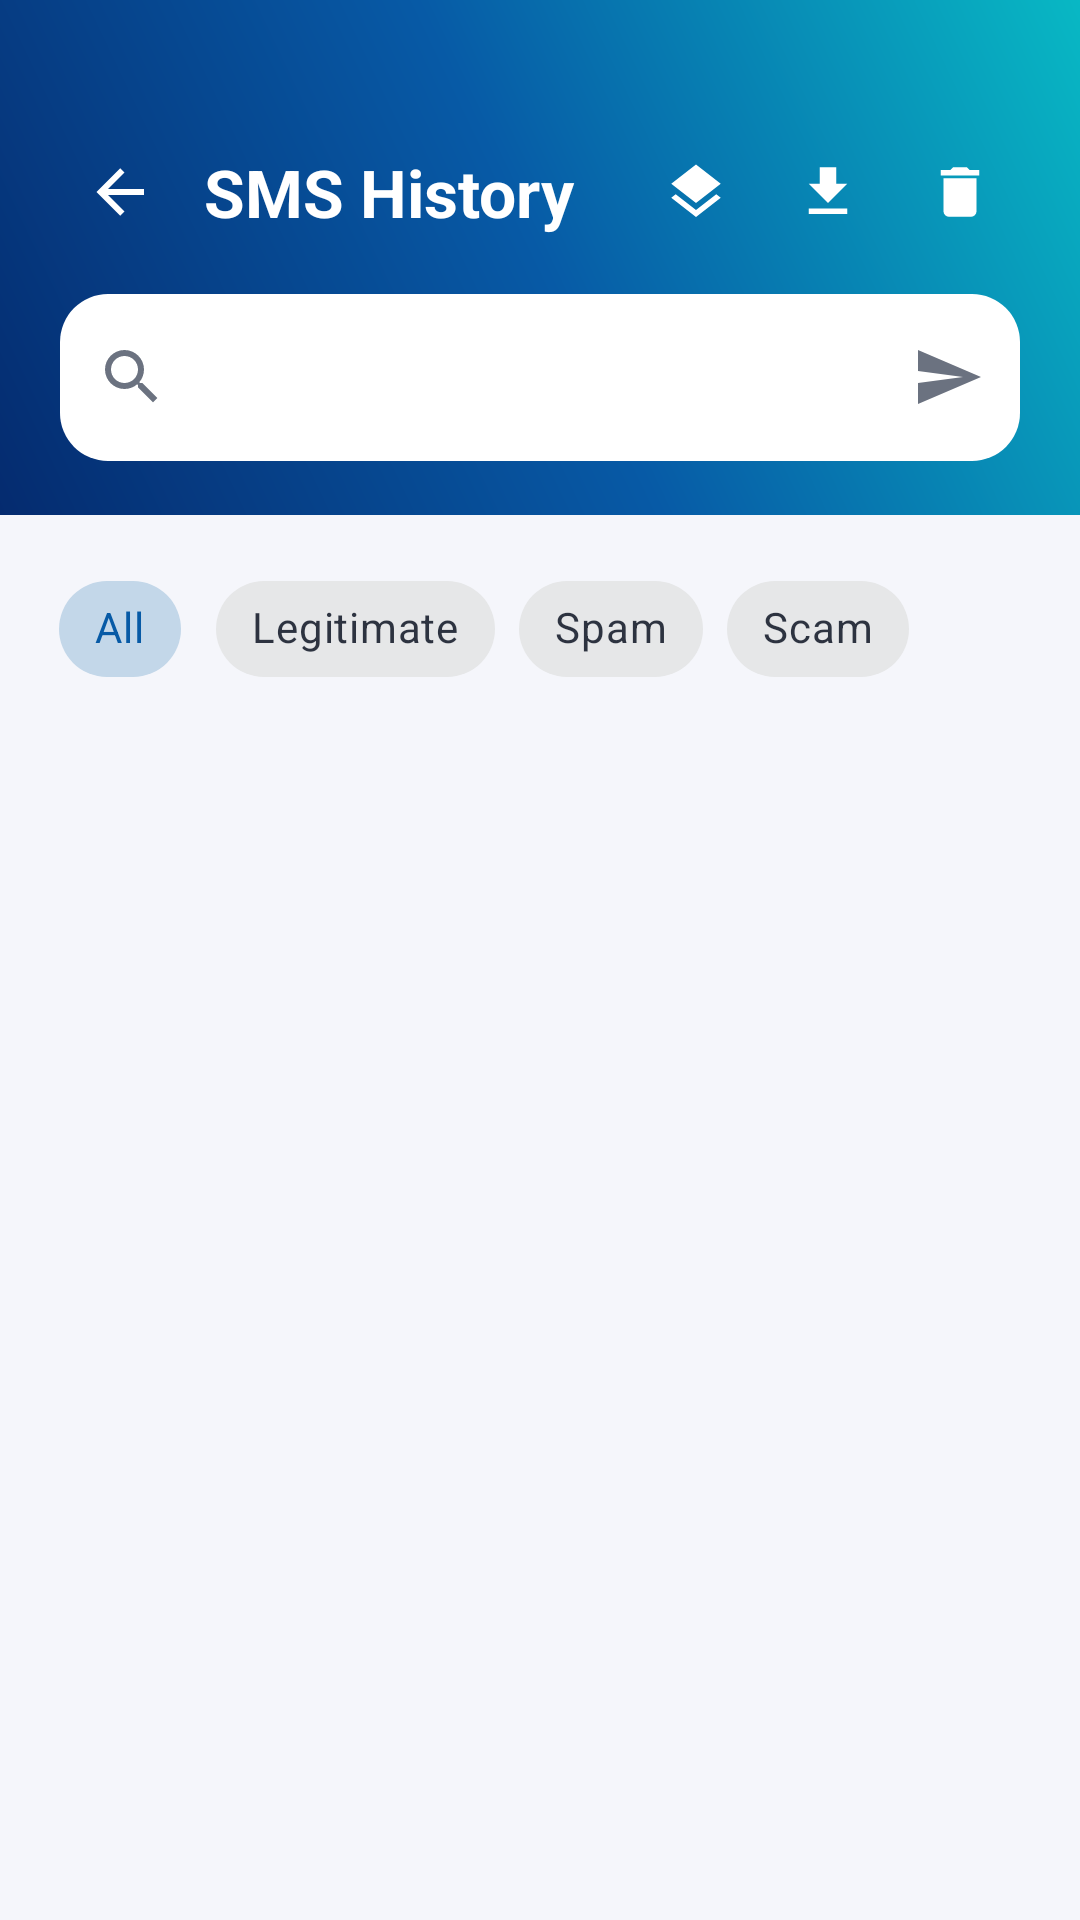

Where icons sit on this 1080 x 1920 app screen, as (x1,y1,x2,y2):
Back: (96,168,144,216)
Batch History: (671,164,721,217)
Clear History: (940,167,980,217)
Download report: (808,167,848,214)
